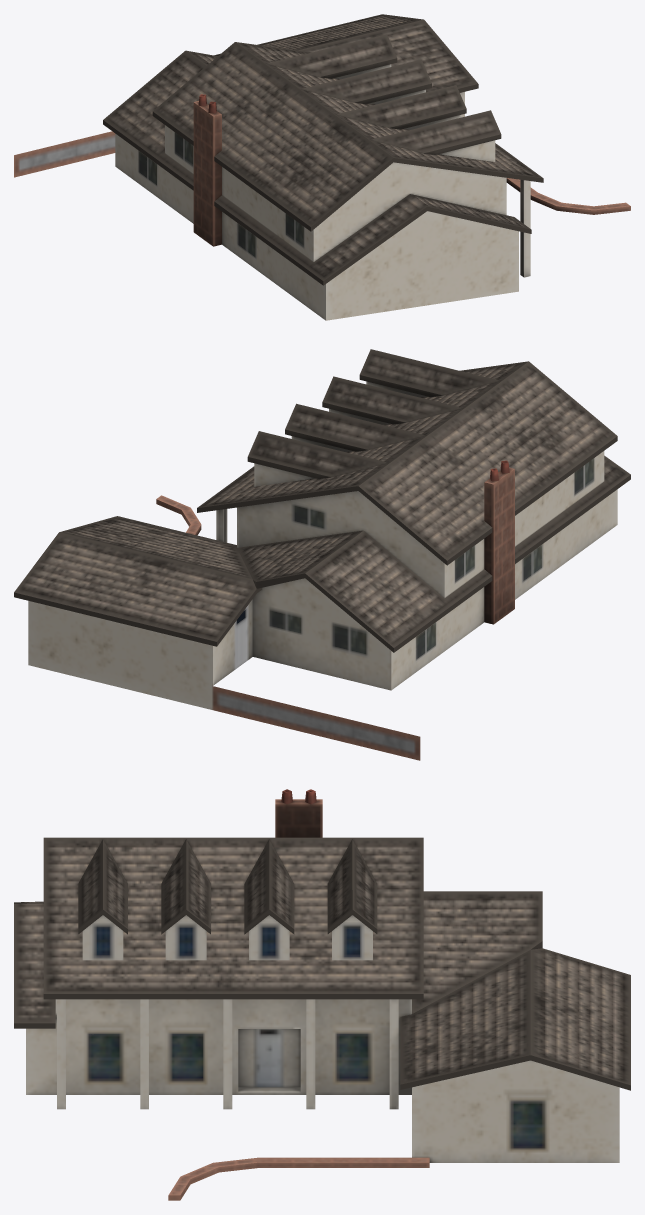
Rendered from house2_001.fbx.
3 renders of one model, top to bottom at view 1: azimuth 30°, elevation 25°; view 2: azimuth 150°, elevation 25°; view 3: azimuth 270°, elevation 25°, orthographic. The views are drawn at different scales.
Parts seen in each view (by area): view 1: ISL_House_02_geo_V2; view 2: ISL_House_02_geo_V2; view 3: ISL_House_02_geo_V2.
Boxes of the visible parts, x1,y1,x2,y2 form: ISL_House_02_geo_V2: (14,14,630,320); ISL_House_02_geo_V2: (14,349,630,760); ISL_House_02_geo_V2: (14,789,630,1200).
Size of the model in its own units: 1642 by 591 by 1706.
1 material, 1 textured.
